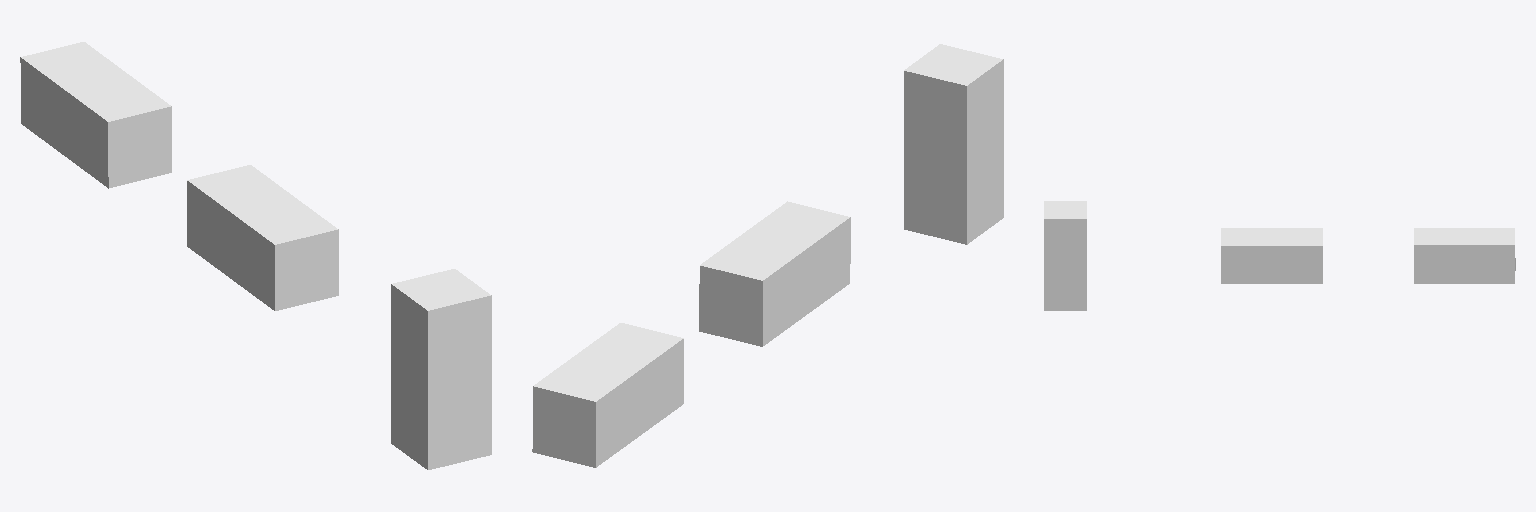
The robot description file, URDF, robot "mobile_manipulator":
<?xml version="1.0" encoding="utf-8"?>
<!-- =================================================================================== -->
<!-- |    This document was autogenerated by xacro from manipulator3.xacro             | -->
<!-- |    EDITING THIS FILE BY HAND IS NOT RECOMMENDED                                 | -->
<!-- =================================================================================== -->
<robot name="mobile_manipulator">
  <material name="white">
    <color rgba="1 1 1 1"/>
  </material>
  <!-- MACROS -->
  <!-- LINKS -->
  <link name="base_link">
    <inertial>
      <origin rpy="0 0 0" xyz="0 0 0"/>
      <mass value="0.00048"/>
      <inertia ixx="0.000050799110" ixy="0.0" ixz="0.0" iyy="0.00002857215" iyz="0.00000051457" izz="0.000043394"/>
    </inertial>
    <visual>
      <origin rpy="0 0 0" xyz="0 0 0"/>
      <geometry>
        <box size="0.04 0.04 0.096"/>
      </geometry>
      <material name="white"/>
    </visual>
    <collision>
      <origin rpy="0 0 0" xyz="0 0 0"/>
      <geometry>
        <box size="0.04 0.04 0.096"/>
      </geometry>
    </collision>
  </link>
  <link name="shoulder_yaw_motor">
    <inertial>
      <origin rpy="0 0 0 " xyz="0 0 0.0205"/>
      <mass value="0.140"/>
      <inertia ixx="0.000050799110" ixy="0.0" ixz="0.0" iyy="0.00002857215" iyz="0.00000051457" izz="0.000043394"/>
    </inertial>
    <visual>
      <origin rpy="0 0 0 " xyz="0 0 0.0205"/>
      <geometry>
        <mesh filename="package://mobile_manipulator/meshes/dynamixel_x64series.stl" scale="0.001 0.001 0.001"/>
      </geometry>
      <material name="white"/>
    </visual>
    <collision>
      <origin rpy="0 0 0" xyz="0 0 0.0205"/>
      <geometry>
        <mesh filename="package://mobile_manipulator/meshes/dynamixel_x64series.stl" scale="0.001 0.001 0.001"/>
      </geometry>
    </collision>
  </link>
  <link name="shoulder_pitch_motor">
    <inertial>
      <origin rpy="0 0 0" xyz="0 0.0481 0"/>
      <mass value="0.140"/>
      <inertia ixx="0.000050799110" ixy="0.0" ixz="0.0" iyy="0.00002857215" iyz="0.00000051457" izz="0.000043394"/>
    </inertial>
    <visual>
      <origin rpy="0.0 0.0 0" xyz="0 0.0481 0"/>
      <geometry>
        <mesh filename="package://mobile_manipulator/meshes/dynamixel_x64series.stl" scale="0.001 0.001 0.001"/>
      </geometry>
      <material name="white"/>
    </visual>
    <collision>
      <origin rpy="0 0 0" xyz="0 0.0481 0"/>
      <geometry>
        <mesh filename="package://mobile_manipulator/meshes/dynamixel_x64series.stl" scale="0.001 0.001 0.001"/>
      </geometry>
    </collision>
  </link>
  <link name="shoulder_bracket">
    <inertial>
      <origin rpy="0 0 0 " xyz="0 0 0.036"/>
      <mass value="0.00712"/>
      <inertia ixx="0.00000174511" ixy="0.0" ixz="0.0" iyy="0.00000379922" iyz="0.0" izz="0.00000357521"/>
    </inertial>
    <visual>
      <origin rpy="0 0 0 " xyz="0 0 0.036"/>
      <geometry>
        <mesh filename="package://mobile_manipulator/meshes/FR05-H101K.stl" scale="0.001 0.001 0.001"/>
      </geometry>
      <material name="white"/>
    </visual>
    <collision>
      <origin rpy="0 0 0 " xyz="0 0 0.036"/>
      <geometry>
        <mesh filename="package://mobile_manipulator/meshes/FR05-H101K.stl" scale="0.001 0.001 0.001"/>
      </geometry>
    </collision>
  </link>
  <link name="biscep">
    <inertial>
      <origin rpy="0 0 0" xyz="0 0 0.048"/>
      <mass value="0.00048"/>
      <inertia ixx="0.000050799110" ixy="0.0" ixz="0.0" iyy="0.00002857215" iyz="0.00000051457" izz="0.000043394"/>
    </inertial>
    <visual>
      <origin rpy="0 0 0" xyz="0 0 0.048"/>
      <geometry>
        <box size="0.04 0.04 0.096"/>
      </geometry>
      <material name="white"/>
    </visual>
    <collision>
      <origin rpy="0 0 0" xyz="0 0 0.048"/>
      <geometry>
        <box size="0.04 0.04 0.096"/>
      </geometry>
    </collision>
  </link>
  <link name="elbow_motor">
    <inertial>
      <origin rpy="0 0 0" xyz="0 0.0481 0"/>
      <mass value="0.140"/>
      <inertia ixx="0.000050799110" ixy="0.0" ixz="0.0" iyy="0.00002857215" iyz="0.00000051457" izz="0.000043394"/>
    </inertial>
    <visual>
      <origin rpy="0 0 0" xyz="0 0.0481 0"/>
      <geometry>
        <mesh filename="package://mobile_manipulator/meshes/dynamixel_x64series.stl" scale="0.001 0.001 0.001"/>
      </geometry>
      <material name="white"/>
    </visual>
    <collision>
      <origin rpy="0 0 0" xyz="0 0.0481 0"/>
      <geometry>
        <mesh filename="package://mobile_manipulator/meshes/dynamixel_x64series.stl" scale="0.001 0.001 0.001"/>
      </geometry>
    </collision>
  </link>
  <link name="elbow_bracket">
    <inertial>
      <origin rpy="0 0 0" xyz="0 0 0.036"/>
      <mass value="0.00712"/>
      <inertia ixx="0.00000174511" ixy="0.0" ixz="0.0" iyy="0.00000379922" iyz="0.0" izz="0.00000357521"/>
    </inertial>
    <visual>
      <origin rpy="0 0 0" xyz="0 0 0.036"/>
      <geometry>
        <mesh filename="package://mobile_manipulator/meshes/FR05-H101K.stl" scale="0.001 0.001 0.001"/>
      </geometry>
      <material name="white"/>
    </visual>
    <collision>
      <origin rpy="0 0 0" xyz="0 0 0.036"/>
      <geometry>
        <mesh filename="package://mobile_manipulator/meshes/FR05-H101K.stl" scale="0.001 0.001 0.001"/>
      </geometry>
    </collision>
  </link>
  <link name="forearm">
    <inertial>
      <origin rpy="0 0 0" xyz="0 0 0.048"/>
      <mass value="0.00048"/>
      <inertia ixx="0.000050799110" ixy="0.0" ixz="0.0" iyy="0.00002857215" iyz="0.00000051457" izz="0.000043394"/>
    </inertial>
    <visual>
      <origin rpy="0 0 0" xyz="0 0 0.048"/>
      <geometry>
        <box size="0.04 0.04 0.096"/>
      </geometry>
      <material name="white"/>
    </visual>
    <collision>
      <origin rpy="0 0 0" xyz="0 0 0.048"/>
      <geometry>
        <box size="0.04 0.04 0.096"/>
      </geometry>
    </collision>
  </link>
  <link name="wrist_bracket">
    <inertial>
      <origin rpy="0 0 0" xyz="0 0.052 0"/>
      <mass value="0.00712"/>
      <inertia ixx="0.00000174511" ixy="0.0" ixz="0.0" iyy="0.00000379922" iyz="0.0" izz="0.00000357521"/>
    </inertial>
    <visual>
      <origin rpy="0 0 0" xyz="0 0.052 0"/>
      <geometry>
        <mesh filename="package://mobile_manipulator/meshes/F4.stl" scale="0.001 0.001 0.001"/>
      </geometry>
      <material name="white"/>
    </visual>
    <collision>
      <origin rpy="0 0 0" xyz="0 0.052 0"/>
      <geometry>
        <mesh filename="package://mobile_manipulator/meshes/F4.stl" scale="0.001 0.001 0.001"/>
      </geometry>
    </collision>
  </link>
  <joint name="base_joint" type="fixed">
    <origin rpy="1.57 0 3.14" xyz="0 0.02 0"/>
    <parent link="base_link"/>
    <child link="shoulder_yaw_motor"/>
  </joint>
  <joint name="shoulder_yaw" type="revolute">
    <origin rpy="1.57 0 1.57" xyz="0 0 0.041"/>
    <parent link="shoulder_yaw_motor"/>
    <child link="shoulder_pitch_motor"/>
    <axis xyz="0 1 0"/>
    <limit effort="30" lower="-3.14" upper="3.14" velocity="1.0"/>
  </joint>
  <joint name="shoulder_pitch" type="revolute">
    <origin rpy="0 1.57 1.57" xyz="0 0.0481 0"/>
    <parent link="shoulder_pitch_motor"/>
    <child link="shoulder_bracket"/>
    <axis xyz="1 0 0"/>
    <limit effort="30" lower="-1.57" upper="1.57" velocity="1.0"/>
  </joint>
  <joint name="biceps_start" type="fixed">
    <origin rpy="0 0 3.14" xyz="0 0 0.038"/>
    <parent link="shoulder_bracket"/>
    <child link="biscep"/>
  </joint>
  <joint name="biceps_end" type="fixed">
    <origin rpy="1.57 0 1.57" xyz="0 0 0.096"/>
    <parent link="biscep"/>
    <child link="elbow_motor"/>
  </joint>
  <joint name="elbow_pitch" type="revolute">
    <origin rpy="0 1.57 1.57" xyz="0 0.0481 0"/>
    <parent link="elbow_motor"/>
    <child link="elbow_bracket"/>
    <axis xyz="1 0 0"/>
    <limit effort="30" lower="-1.57" upper="1.57" velocity="1.0"/>
  </joint>
  <joint name="forearm_start" type="fixed">
    <origin rpy="0 0 3.14" xyz="0 0 0.038"/>
    <parent link="elbow_bracket"/>
    <child link="forearm"/>
  </joint>
  <joint name="forearm_end" type="fixed">
    <origin rpy="1.57 0 1.57" xyz="0 0 0.096"/>
    <parent link="forearm"/>
    <child link="wrist_bracket"/>
  </joint>
</robot>

--- Facts derived from the render (not from the file) ---
Views: 3 orthographic renders of the robot side by side, from view 1: azimuth 30°, elevation 25°; view 2: azimuth 150°, elevation 25°; view 3: azimuth 270°, elevation 25°.
Model mobile_manipulator with 9 links and 8 joints (3 revolute, 5 fixed), rooted at base_link, posed all joints at 0.
Visible links, largest first — view 1: base_link, biscep, forearm; view 2: base_link, biscep, forearm; view 3: biscep, forearm, base_link.
Boxes of the visible links, x1,y1,x2,y2 form: base_link: [391, 269, 491, 469]; biscep: [187, 165, 338, 310]; forearm: [20, 42, 171, 188]; base_link: [904, 44, 1003, 244]; biscep: [699, 201, 850, 346]; forearm: [532, 323, 683, 467]; biscep: [1221, 228, 1322, 283]; forearm: [1414, 228, 1515, 283]; base_link: [1044, 201, 1086, 310].
Size in the robot's own frame: 0.0408 by 0.4453 by 0.096 metres.
0 mesh visuals loaded from 3 distinct referenced files (none loaded); not drawn: 6 (reference not matched to a file when rendering).